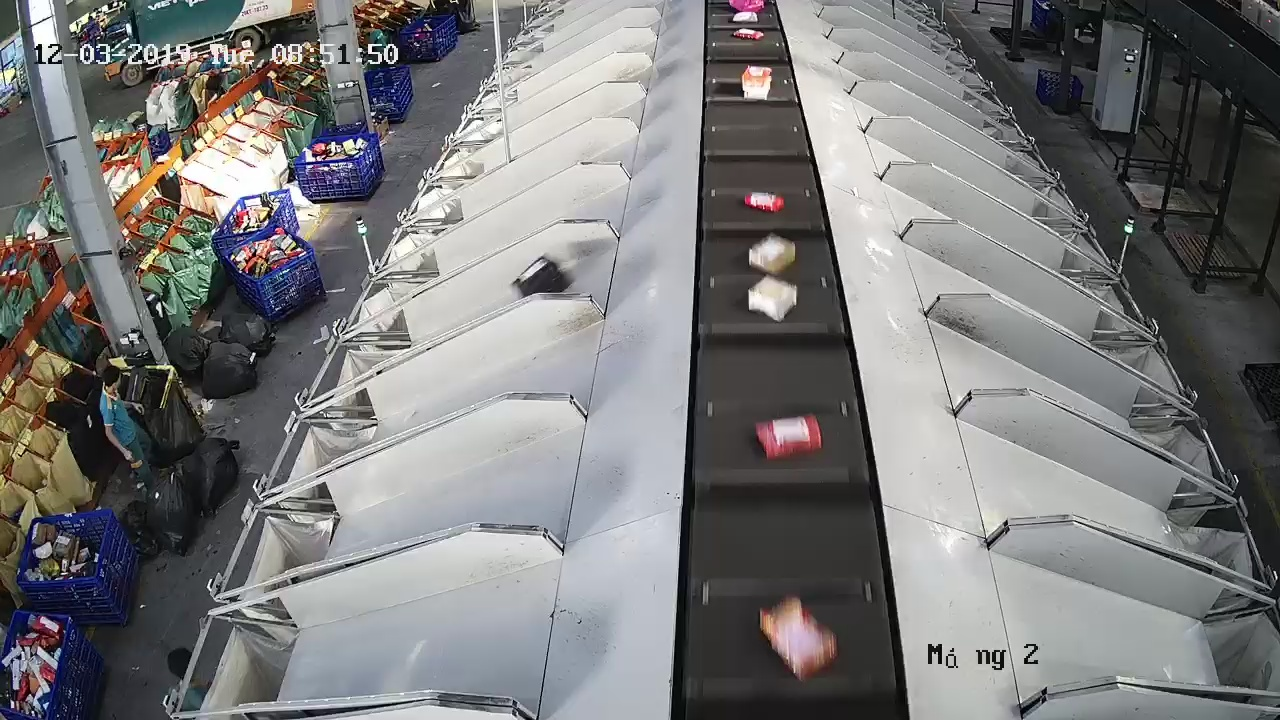parcel: (510, 255, 566, 296)
